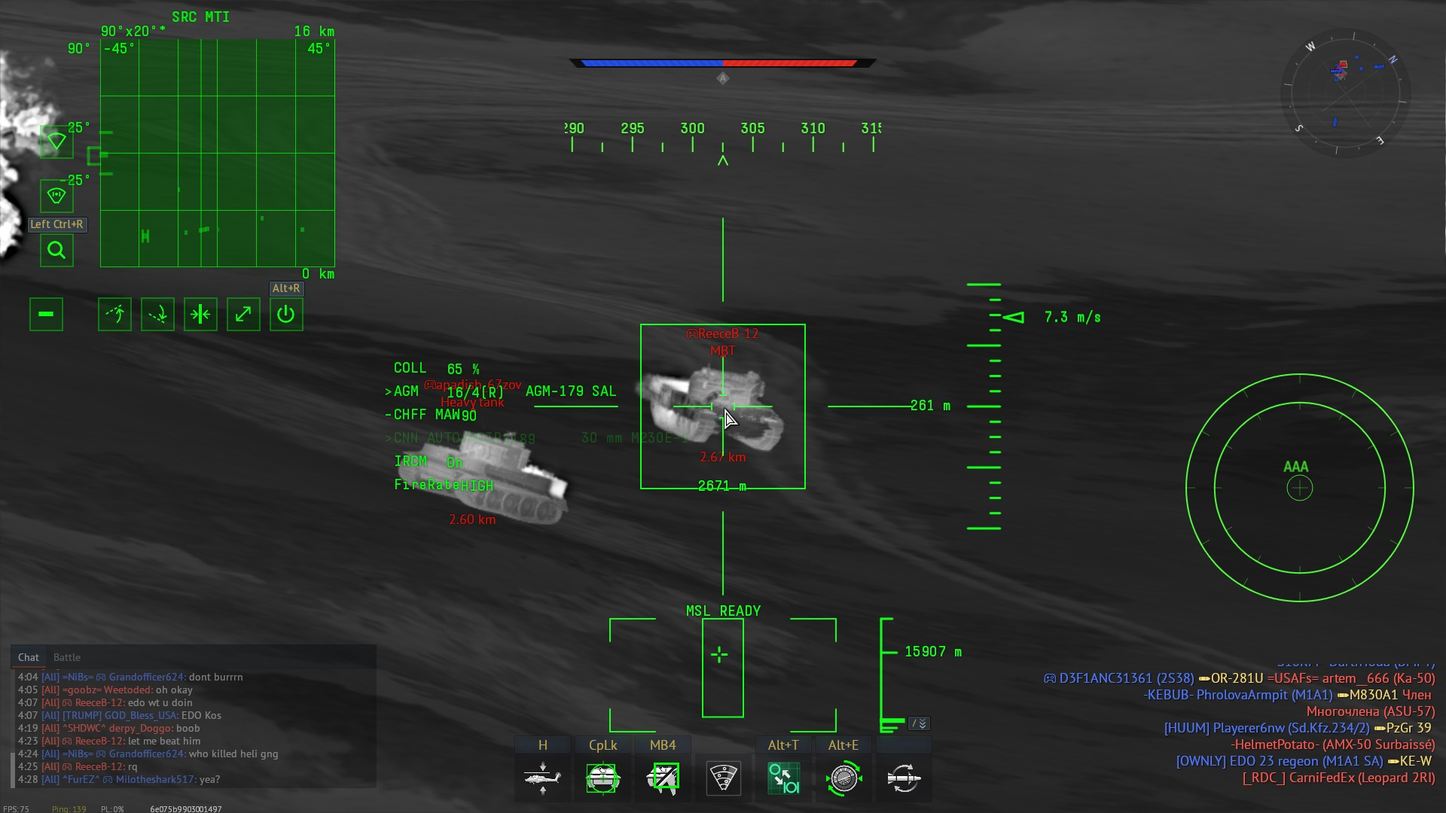leopard2: (636, 367, 788, 453)
